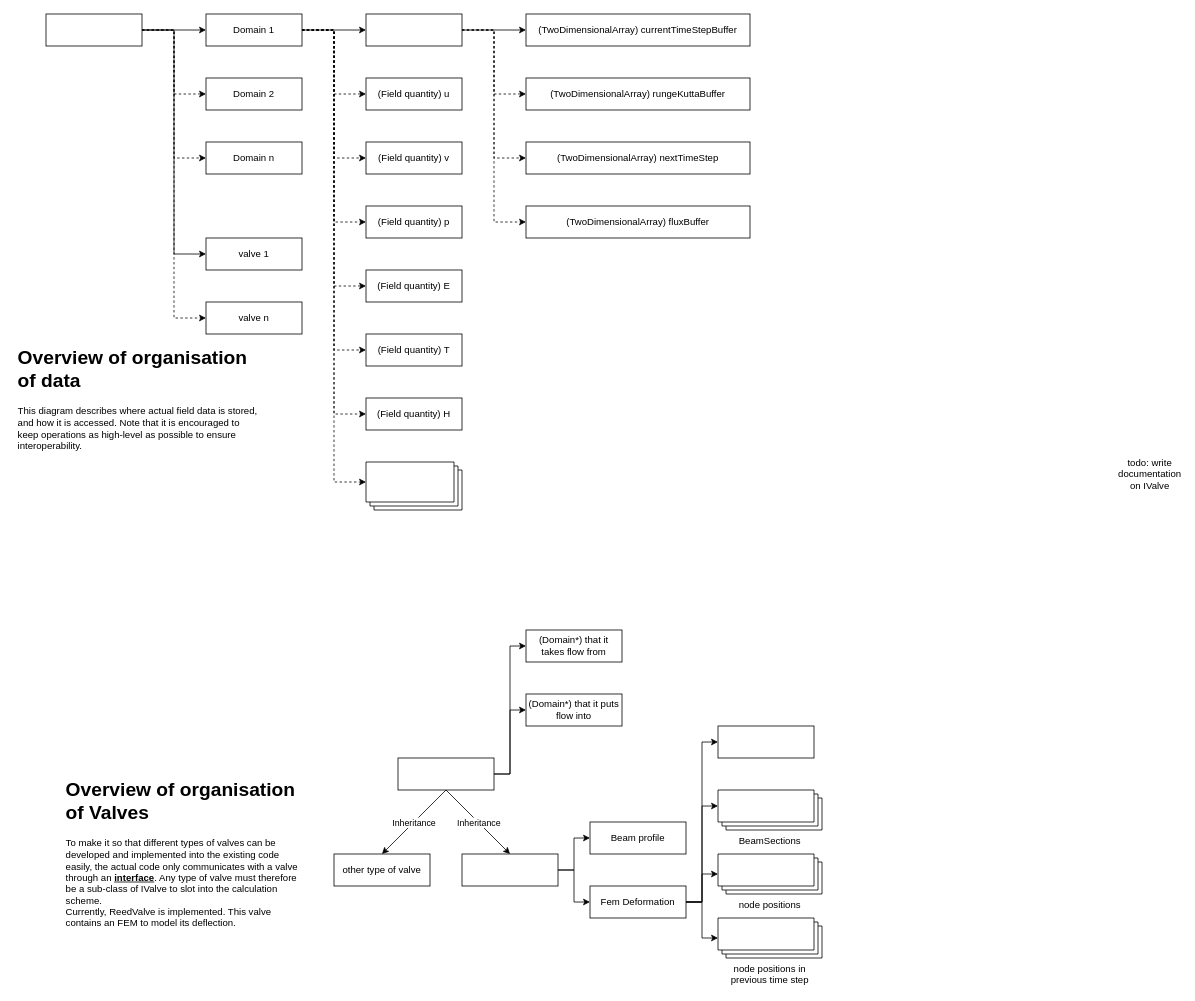
This 1195x1001 diagram has some shape labels left out. The shapes that lost their labels are listed below. From the top down, each one's box as (x1, y1, x2, y2) in pixels, then its label:
(45, 13, 142, 46): Simcase
(365, 13, 462, 46): (Field quantity) rho
(365, 461, 462, 510): (TwoDimensionalArray) Euler Caches
(717, 725, 814, 758): (a copy of)Beam profile
(397, 757, 494, 790): IValve
(461, 853, 558, 886): ReedValve
